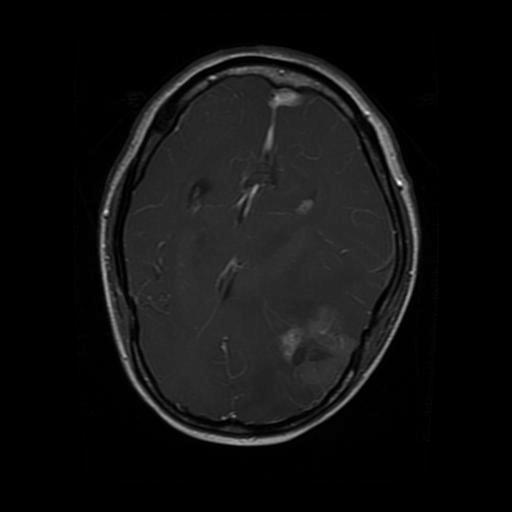Tumour-Glioma: (273, 308, 364, 388)
